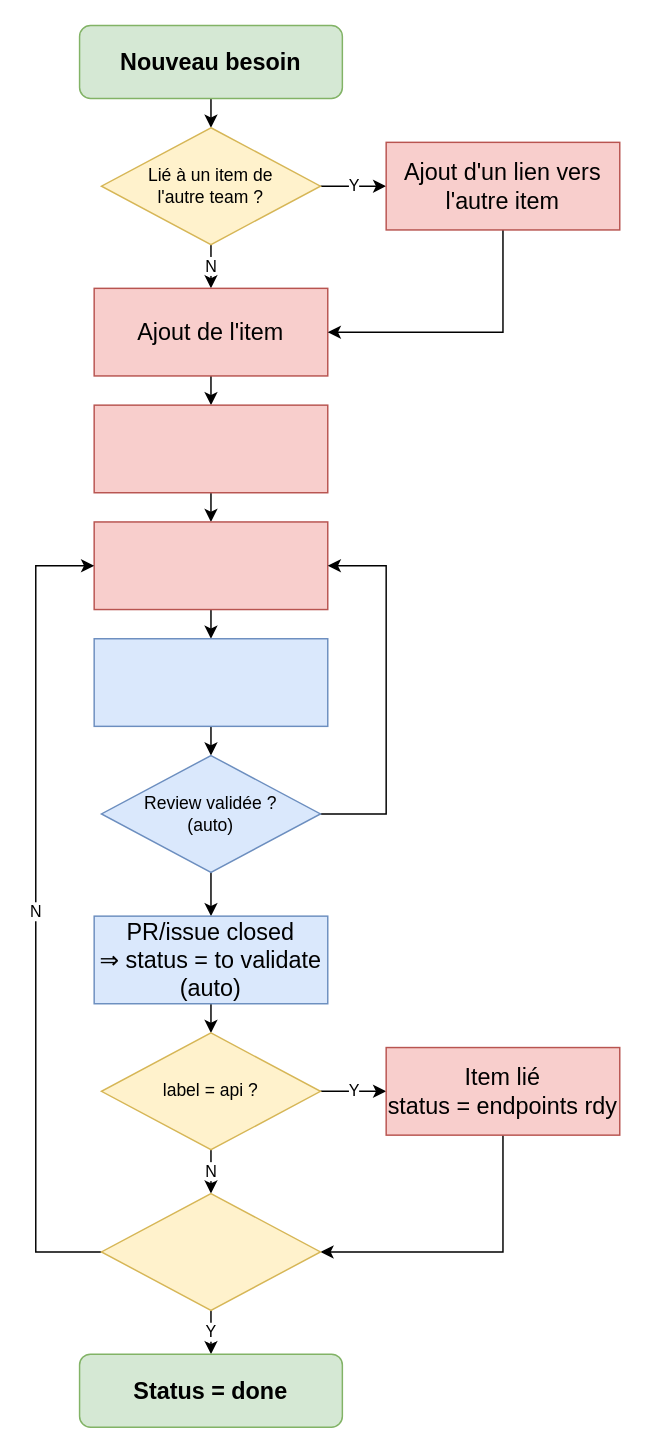
Some shapes in this 645 by 1453 pixel diagram are drawn without their labels. Each missing label, with the box of its shape:
Choisi pour sprint ⇒ status = to do: (93, 404, 328, 493)
Création de l'issue/PR ⇒ status = in progress: (93, 520, 328, 610)
DoD OK ?: (100, 1192, 320, 1310)
En attente de review ⇒ status = to review (auto): (93, 637, 328, 726)
